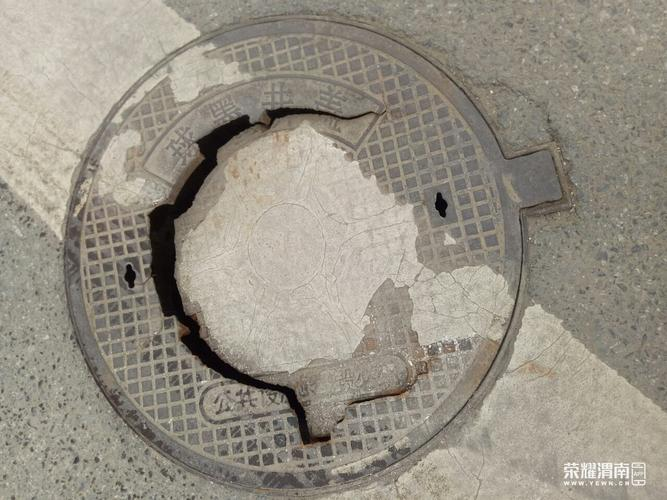broke: (51, 8, 536, 495)
